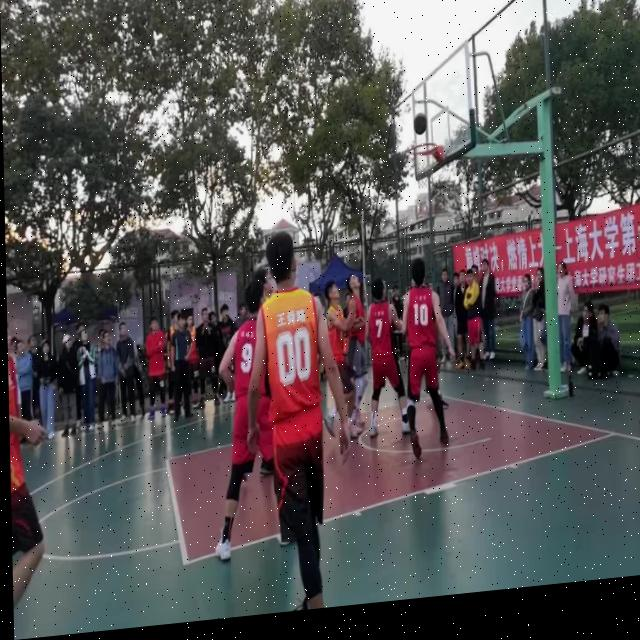basketball: (413, 111, 428, 136)
hoop: (408, 141, 438, 192)
